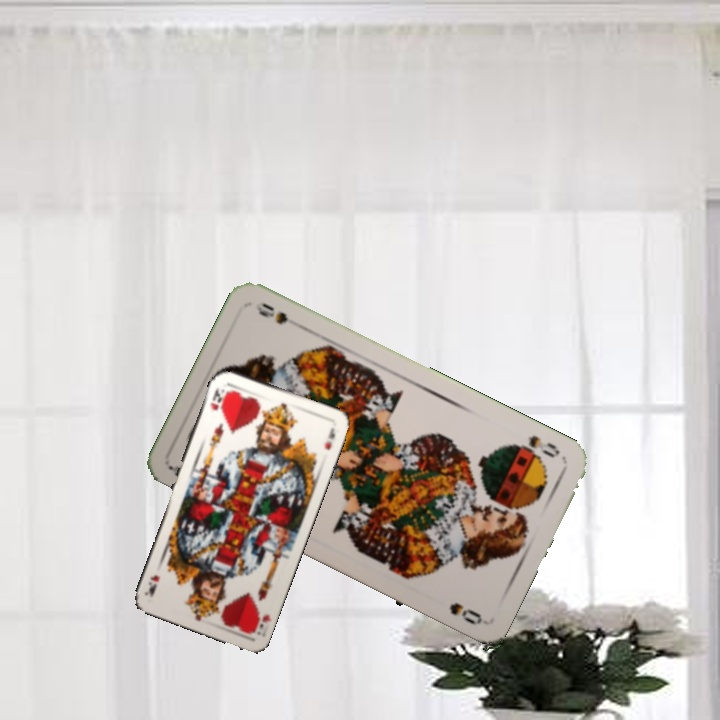HK: (206, 384, 230, 413), (253, 610, 273, 638)
SO: (509, 431, 563, 461)
